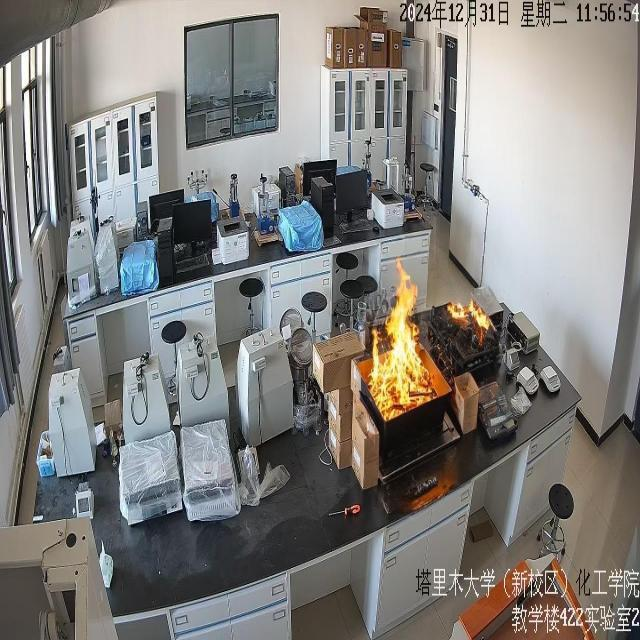smoke: (370, 267, 432, 413), (446, 294, 490, 340)
